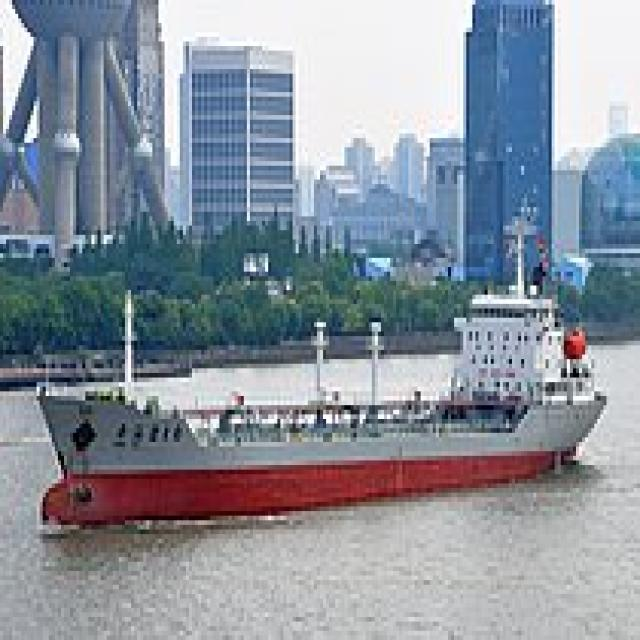Tanker: (30, 202, 612, 538)
